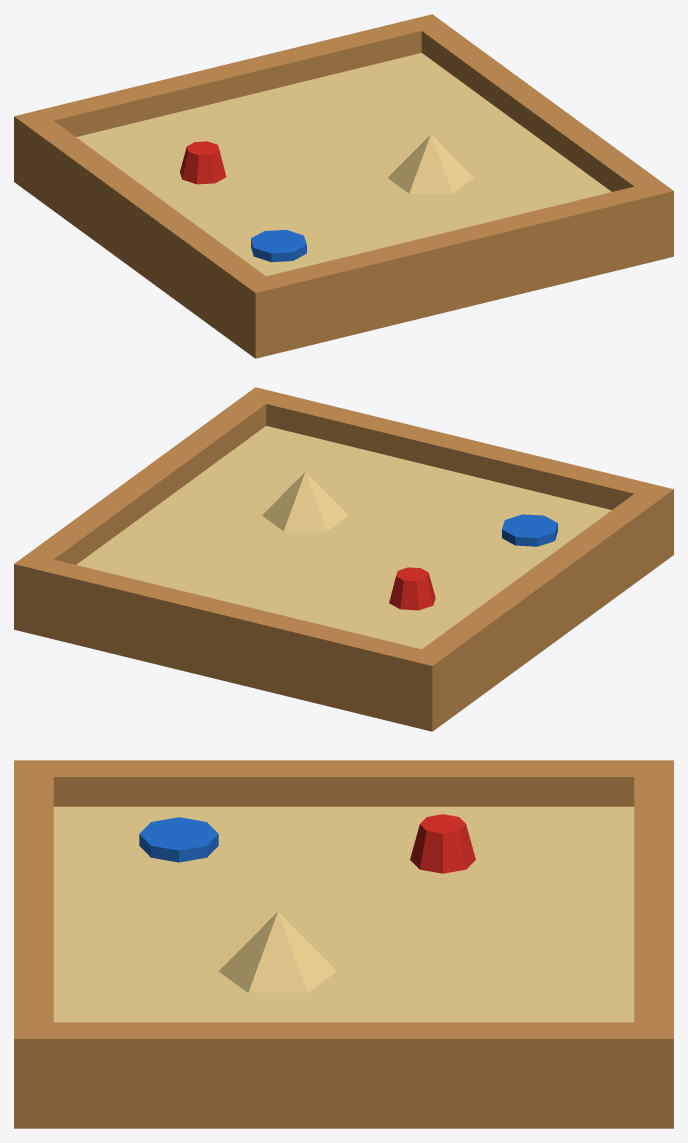
Rendered from sandbox.glb.
The picture shows the model from 3 angles, top to bottom: view 1: azimuth 30°, elevation 25°; view 2: azimuth 150°, elevation 25°; view 3: azimuth 270°, elevation 25°; orthographic projection. The views are drawn at different scales.
Parts seen in each view (by area): view 1: sandbox; view 2: sandbox; view 3: sandbox.
Boxes of the visible parts, x1,y1,x2,y2 form: sandbox: [14, 14, 673, 358]; sandbox: [14, 387, 673, 731]; sandbox: [14, 760, 673, 1128].
Size of the model in its own units: 2 by 0.4 by 2.
